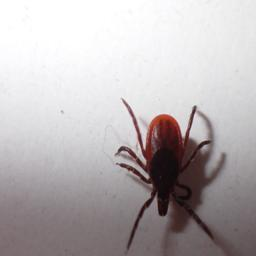Ixodes scapularis: (115, 99, 216, 249)
